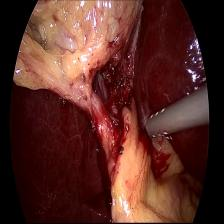Irrigator: (142, 100, 179, 142)
